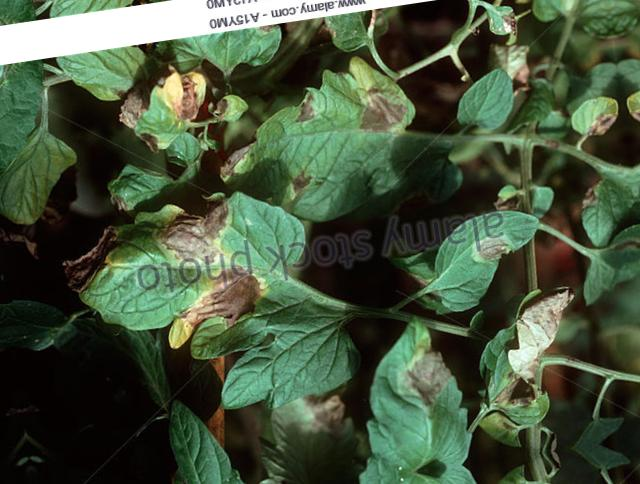Tomato leaf late blight: (73, 169, 371, 432), (204, 51, 470, 241), (457, 288, 606, 436), (412, 190, 555, 319), (117, 53, 255, 174)
